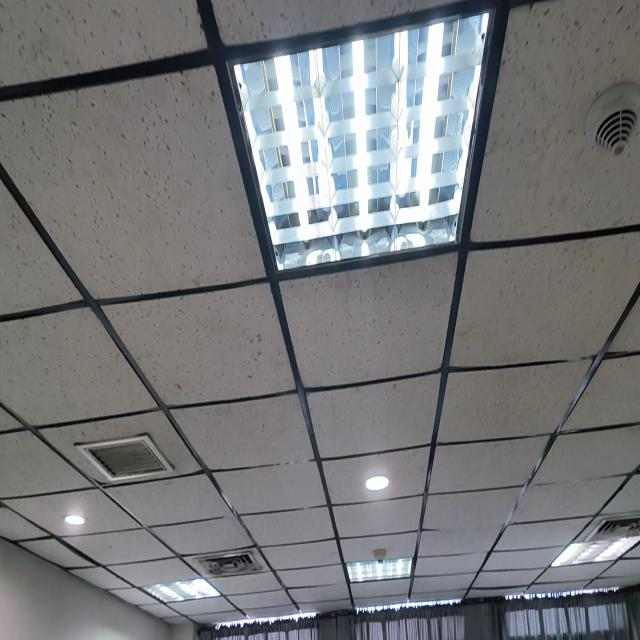Light: (232, 14, 489, 269), (552, 535, 640, 567), (143, 578, 220, 603), (347, 559, 412, 583), (365, 476, 389, 491), (64, 515, 85, 525)
